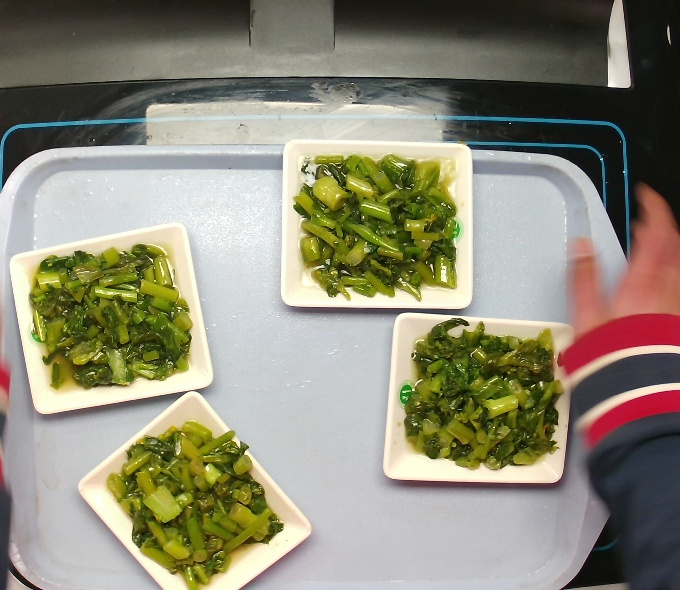wcq-YouCaiHua: (287, 140, 465, 319), (106, 417, 290, 584), (29, 233, 193, 398), (406, 318, 564, 476)
